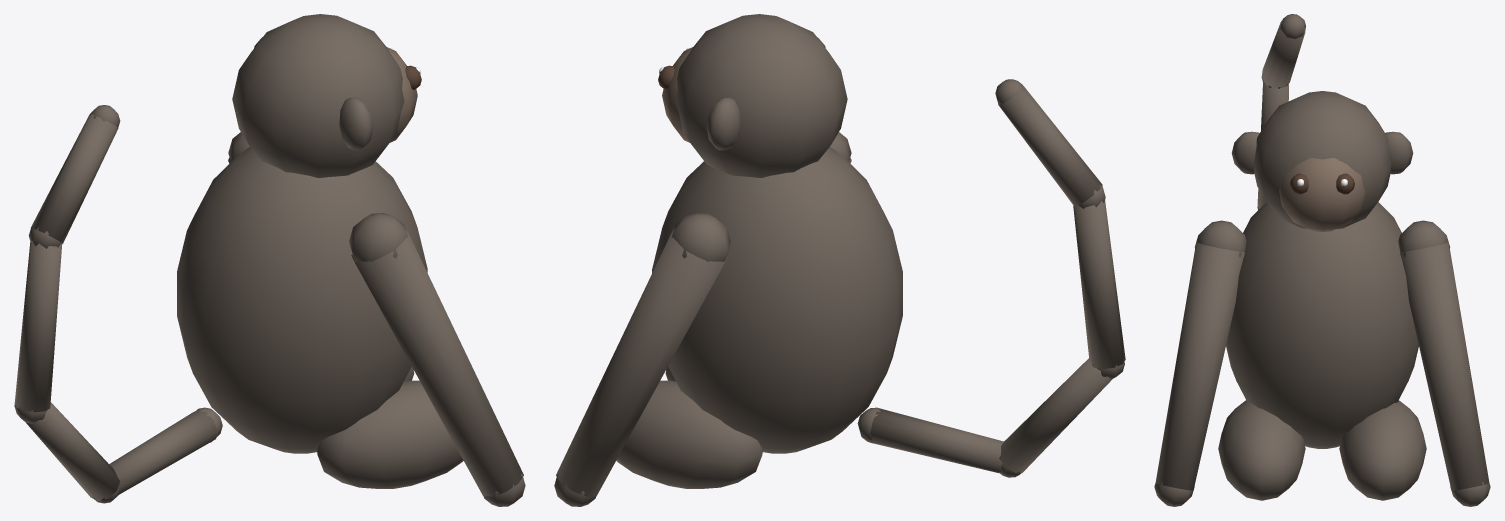
The model's file is brown-headed-spider-monkey.glb.
3 views of the same model, side by side, from view 1: azimuth 30°, elevation 25°; view 2: azimuth 150°, elevation 25°; view 3: azimuth 270°, elevation 25° (orthographic). The views are drawn at different scales.
Parts seen in each view (by area): view 1: e.008, e, e.015; view 2: e.008, e, e.015; view 3: e.008, e, e.015.
Part boxes in pixels (bbox=[...]): e.008: bbox=[177, 132, 525, 506]; e: bbox=[232, 14, 421, 177]; e.015: bbox=[14, 105, 222, 503]; e.008: bbox=[554, 132, 902, 506]; e: bbox=[658, 14, 847, 177]; e.015: bbox=[857, 79, 1125, 477]; e.008: bbox=[1154, 202, 1490, 506]; e: bbox=[1231, 91, 1413, 231]; e.015: bbox=[1257, 14, 1305, 209].
Bounding box in the file's own units: 1.33 × 1.22 × 1.
